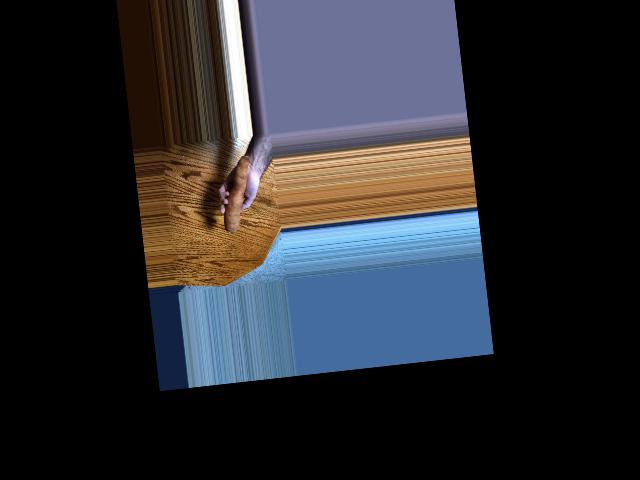sweet_potato: (213, 164, 254, 245)
